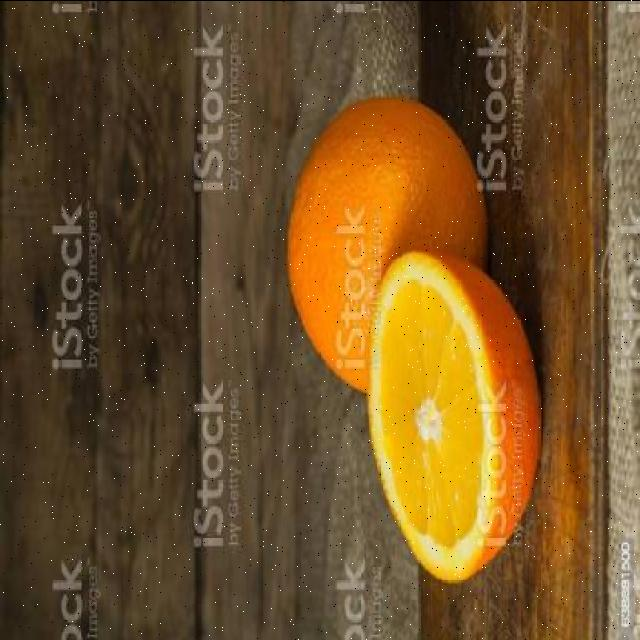Orange: (285, 97, 489, 394), (364, 249, 542, 585)
